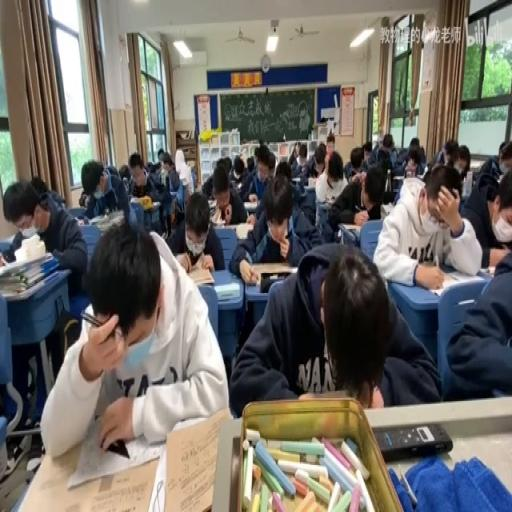calculator: (154, 405, 233, 512), (420, 267, 482, 296), (246, 259, 292, 284), (316, 199, 335, 232), (184, 267, 214, 286), (214, 282, 240, 300), (233, 222, 254, 240), (300, 183, 315, 205), (210, 206, 226, 224), (477, 264, 495, 278), (338, 222, 360, 233), (87, 213, 106, 225), (391, 172, 403, 191), (380, 202, 394, 218), (141, 199, 160, 209), (206, 196, 216, 214), (242, 199, 258, 208), (178, 174, 190, 184), (307, 176, 317, 188), (418, 165, 428, 176), (291, 176, 303, 184), (75, 216, 84, 225), (130, 196, 139, 204), (289, 266, 298, 274)
paper: (42, 218, 227, 456), (227, 239, 432, 417), (374, 161, 481, 286), (446, 244, 512, 402), (1, 176, 86, 296), (230, 172, 319, 280), (168, 191, 222, 273), (328, 160, 387, 234), (81, 158, 135, 227), (394, 136, 426, 176), (153, 148, 179, 196), (127, 152, 152, 199), (474, 150, 503, 188), (292, 142, 314, 182), (1, 230, 22, 262), (440, 138, 459, 166), (456, 145, 470, 181), (200, 169, 216, 199), (348, 145, 362, 174), (29, 175, 48, 196), (254, 144, 270, 168), (230, 155, 244, 181), (252, 175, 267, 199), (274, 158, 291, 179), (217, 155, 232, 178), (381, 134, 394, 154), (350, 168, 366, 183), (362, 139, 372, 161), (315, 154, 325, 170), (498, 141, 507, 158), (325, 141, 334, 158), (388, 148, 397, 165), (78, 191, 88, 206), (106, 164, 118, 176), (155, 148, 165, 162), (246, 155, 254, 171), (268, 164, 275, 179), (122, 175, 128, 189), (146, 160, 154, 170)
person: (373, 422, 452, 461), (106, 437, 130, 458), (310, 388, 349, 398)
